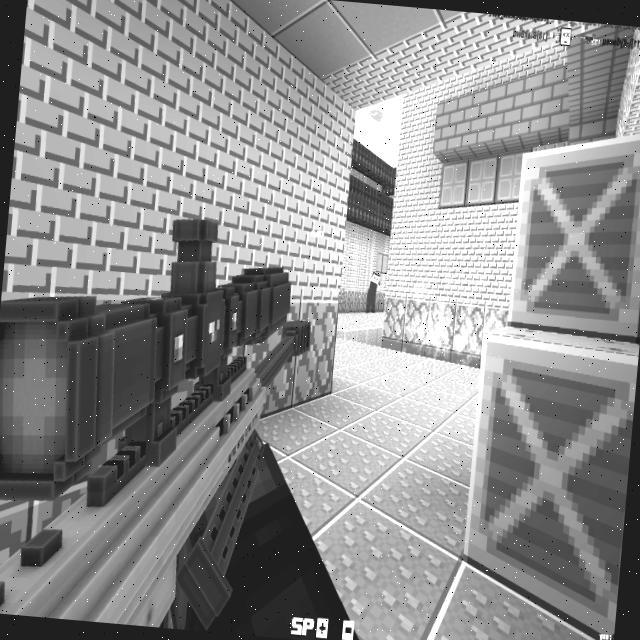Head: (370, 270, 381, 285)
Player: (364, 268, 382, 314)
